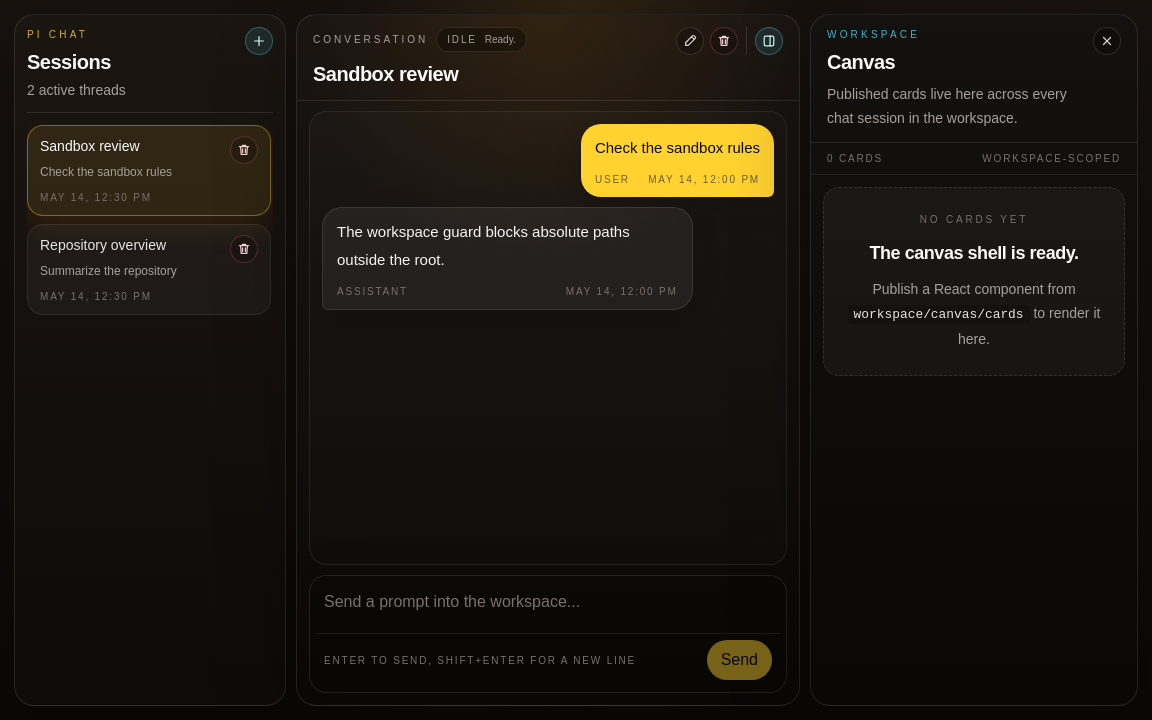
Test: App › opens and closes the canvas panel without changing the selected session
Expected: the heading "Sandbox review" is shown, [313,63,458,85]
What coordinates should you click on to do the following:
click the button named "Hide canvas"
I would click on:
 (769, 41)
Its box is [755,27,783,55].
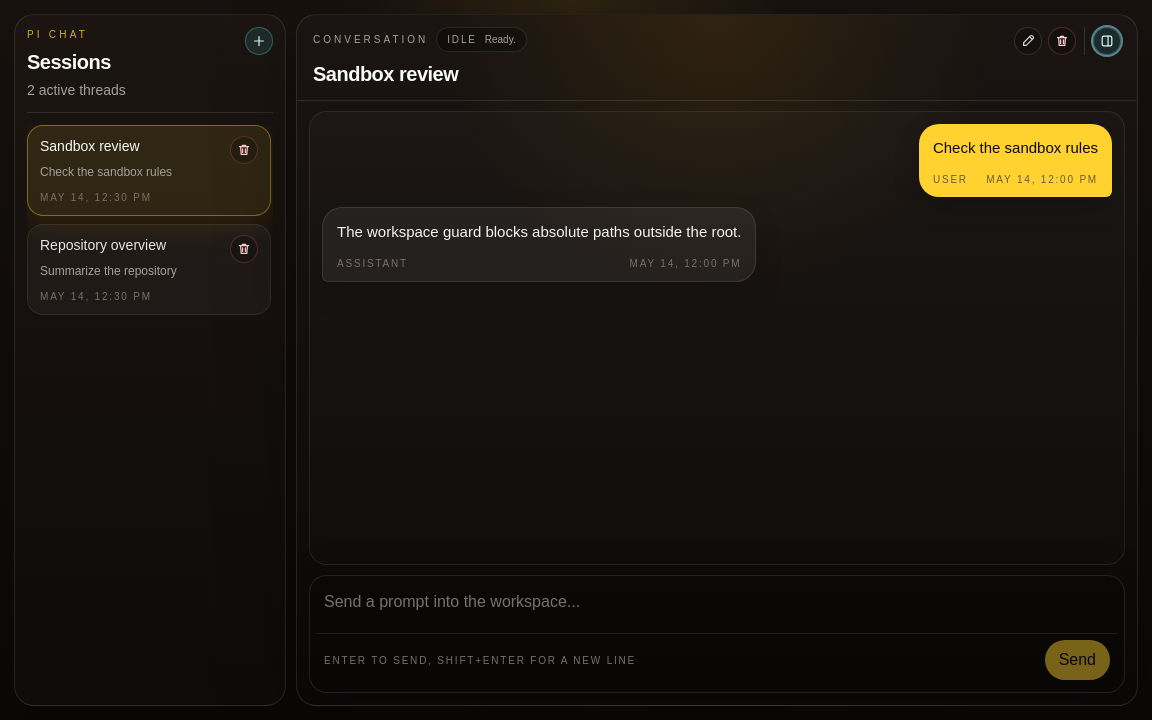
Expected: the heading "Sandbox review" is shown, [313,63,458,85]
What coordinates should you click on to do the following:
click the button named "Open canvas"
I would click on:
 (1107, 41)
Its box is [1093,27,1121,55].
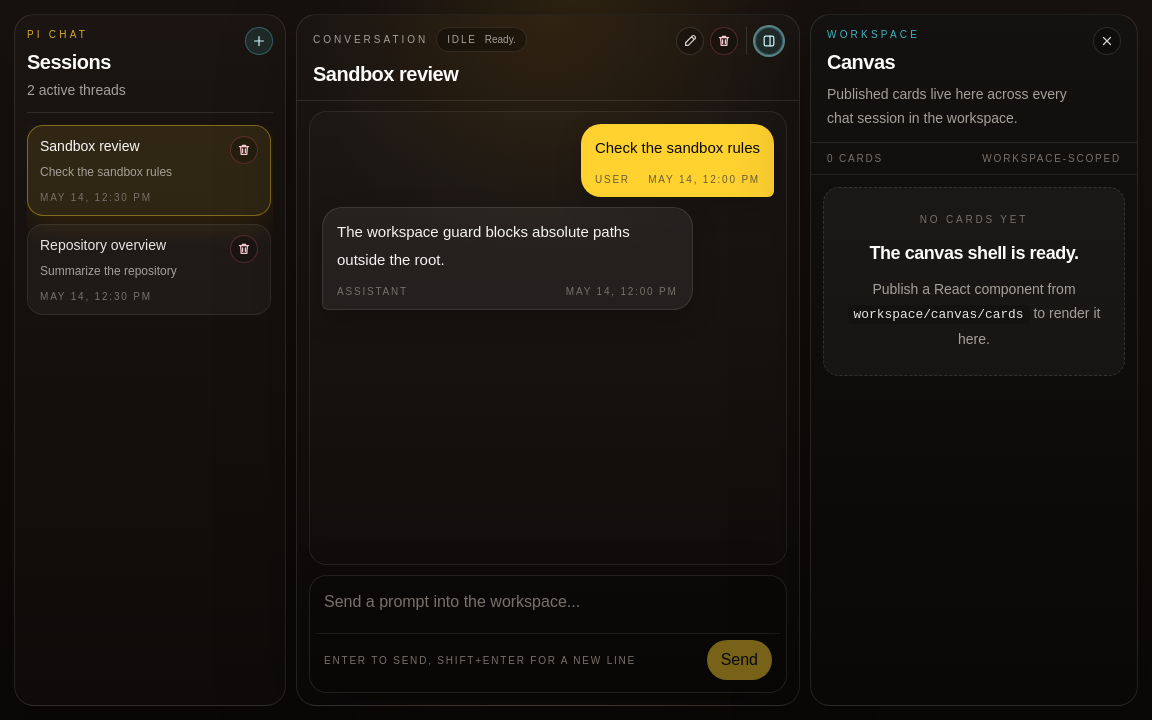
Expected: the heading "Sandbox review" is shown, [313,63,458,85]
Expected: the heading "Canvas" is shown, [827,51,895,73]
